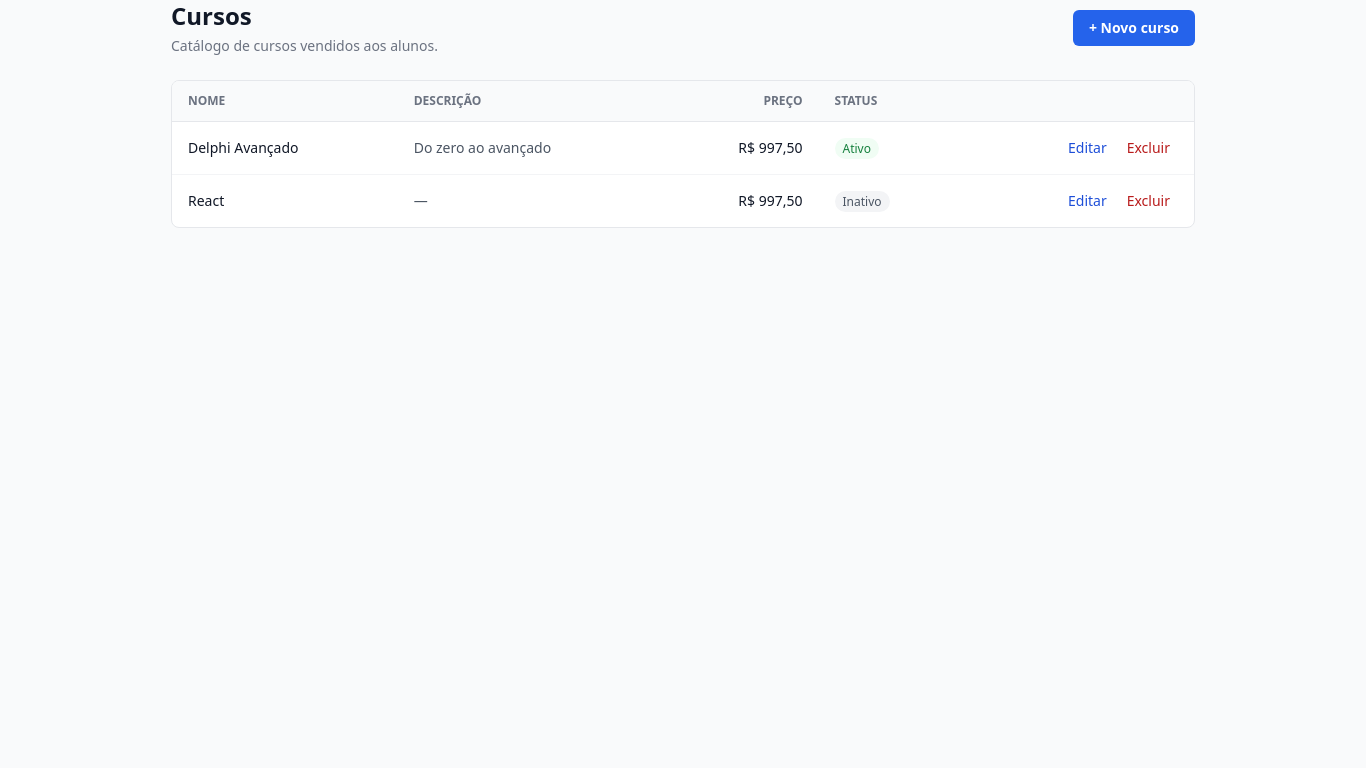
página de cursos › cria curso pelo modal, com preço normalizado, e recarrega
Expected: the text "Delphi Avançado" is shown, [172, 122, 398, 174]
Click the button "+ Novo curso" at (1134, 28), box [1073, 10, 1195, 46]
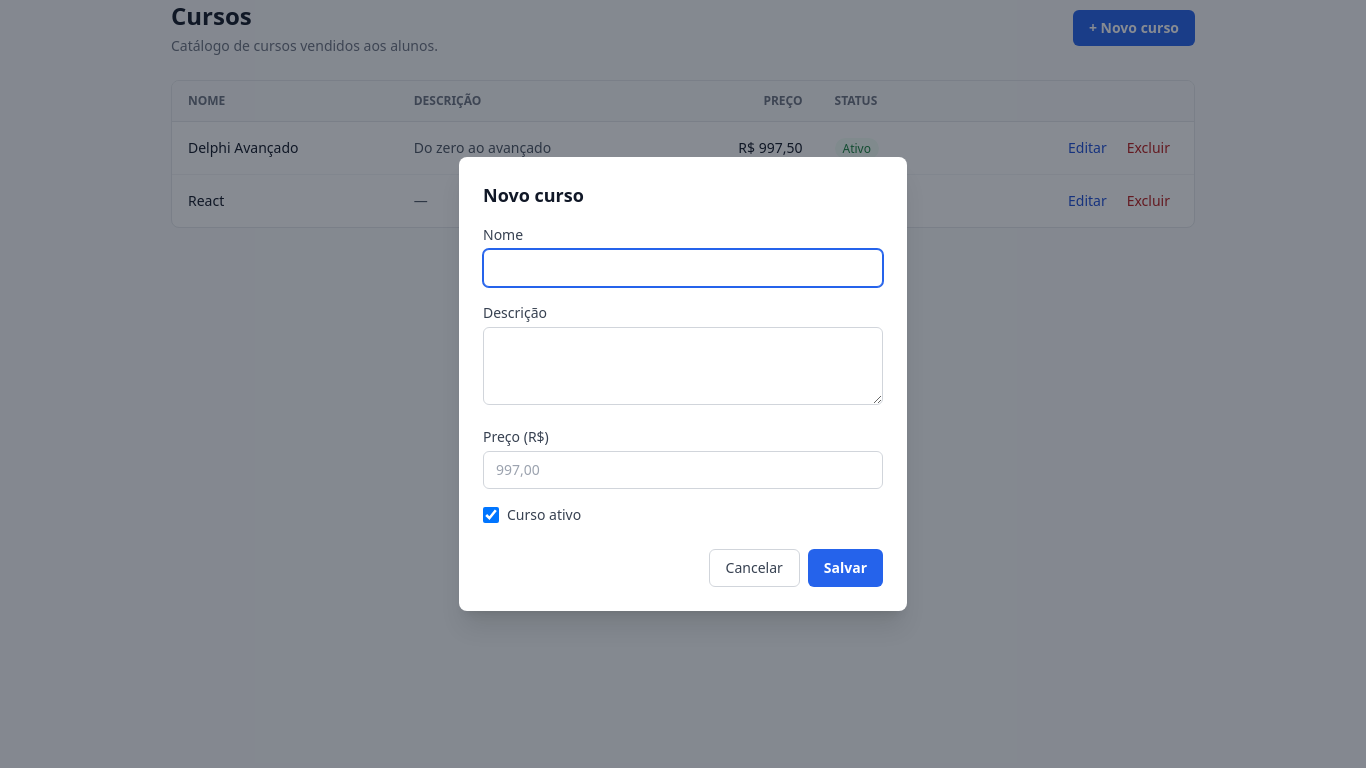
Type "Claude Code" into the field labelled "Nome" at (683, 268), box [483, 249, 883, 287]
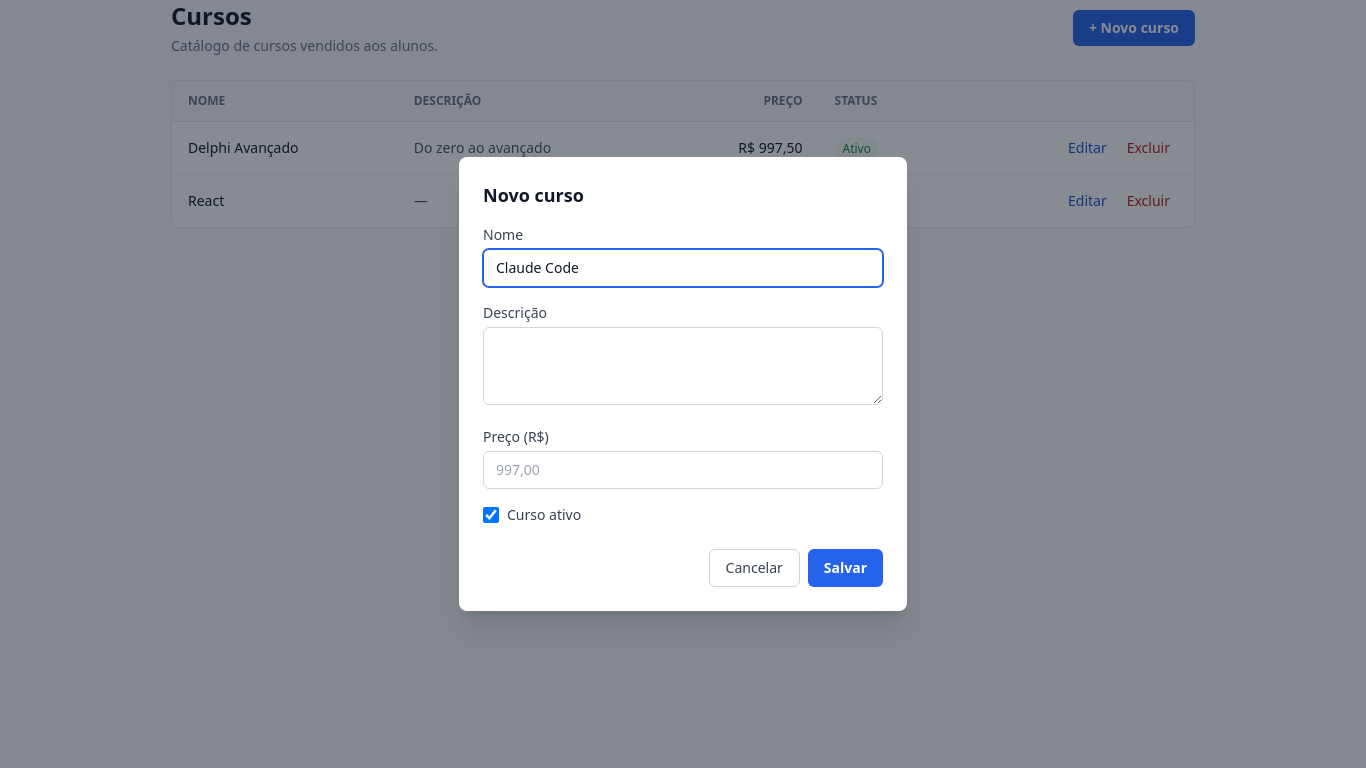
Type "1997,5" into the field labelled "Preço (R$)" at (683, 470), box [483, 451, 883, 489]
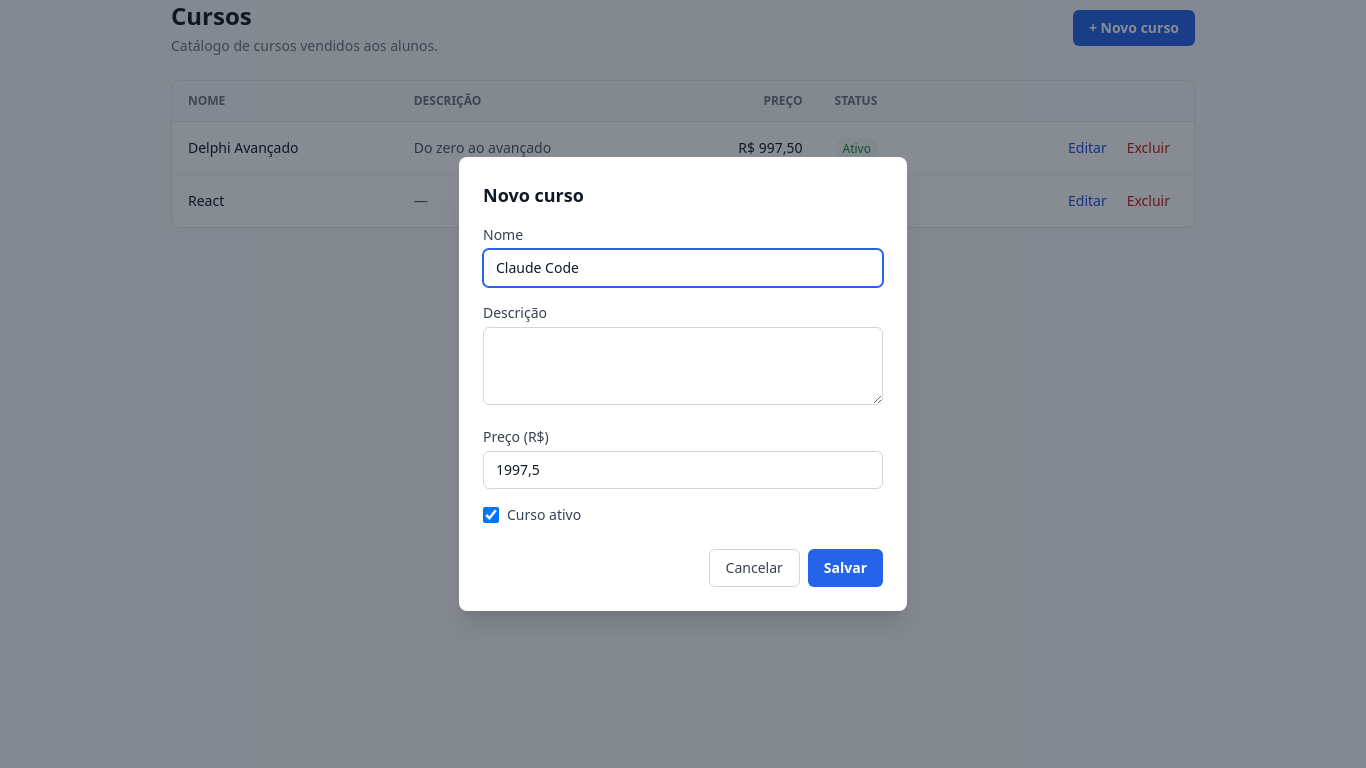
Click the button "Salvar" at (845, 568), box [808, 549, 883, 587]
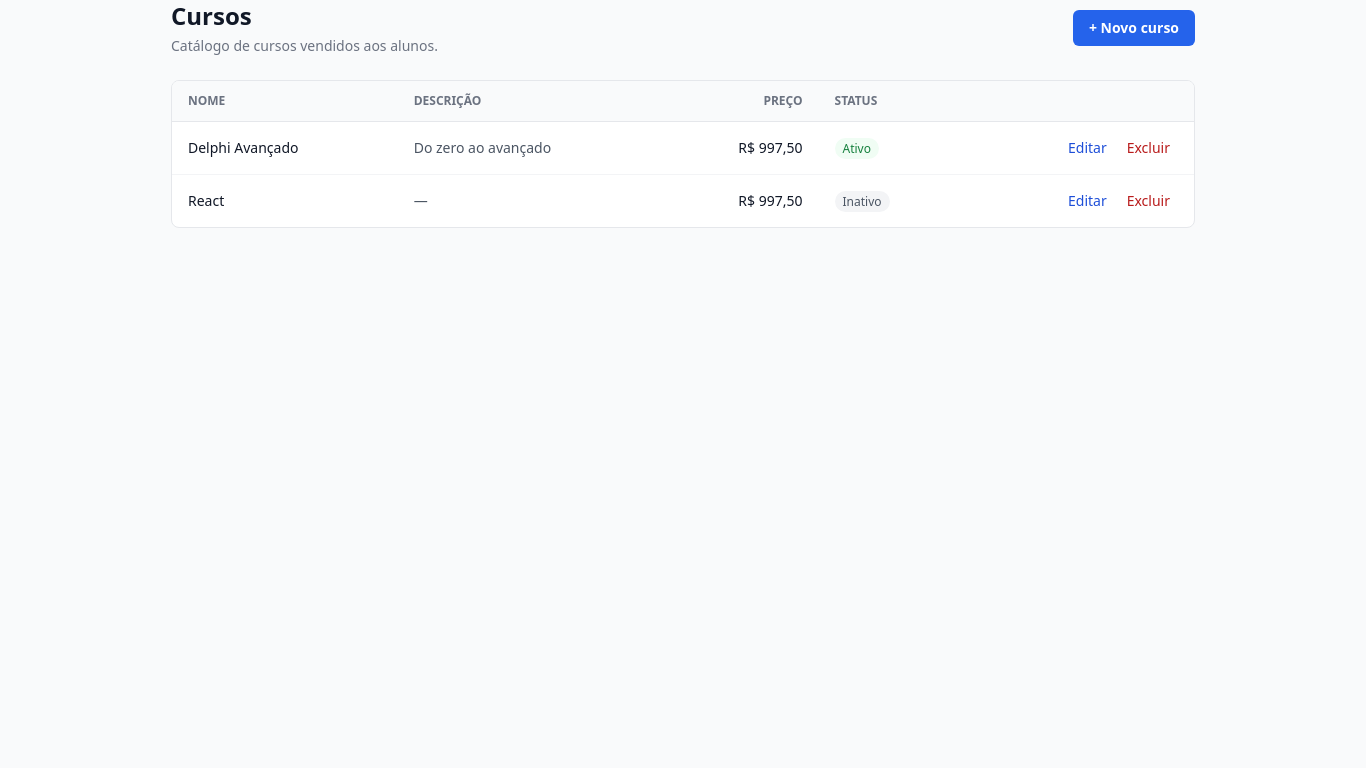
Result: the dialog is gone
